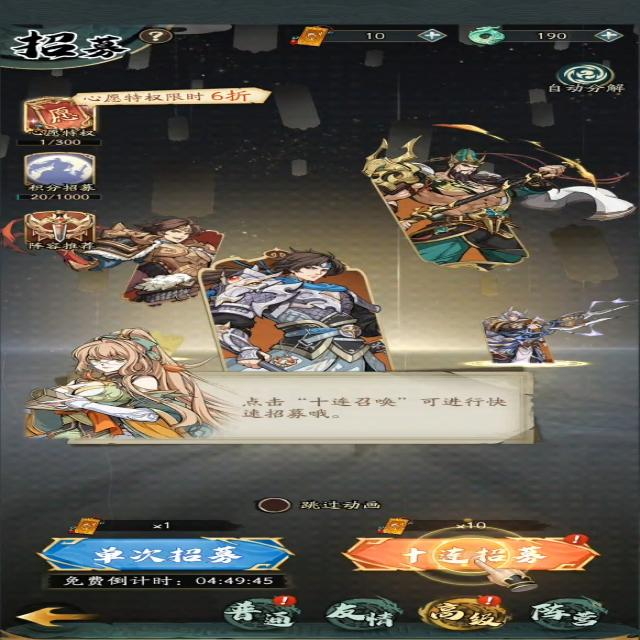hint-guide: (18, 331, 540, 448), (412, 524, 540, 594)
hint-reddot: (560, 532, 591, 546), (475, 594, 502, 608), (268, 595, 298, 607)
operation-back: (15, 603, 104, 633)
operation-singleRecruit: (35, 536, 292, 572)
operation-tenRecruit: (345, 535, 604, 574)
system-protocol-box: (253, 495, 384, 515)
